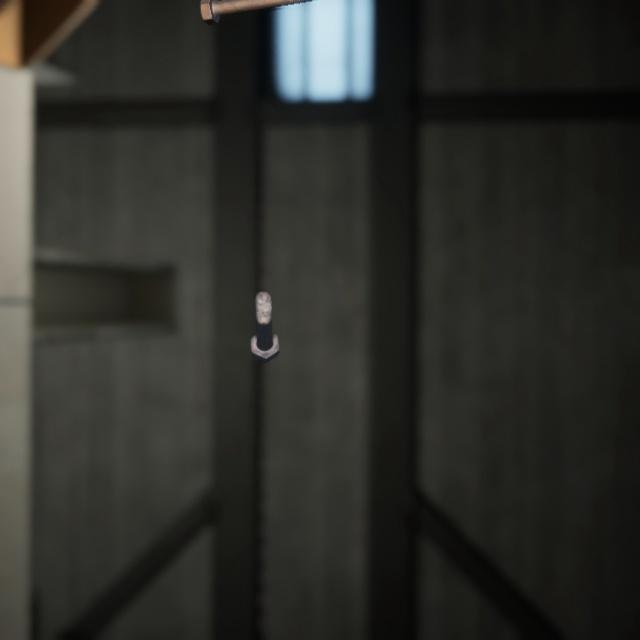bolt: (246, 267, 283, 348)
